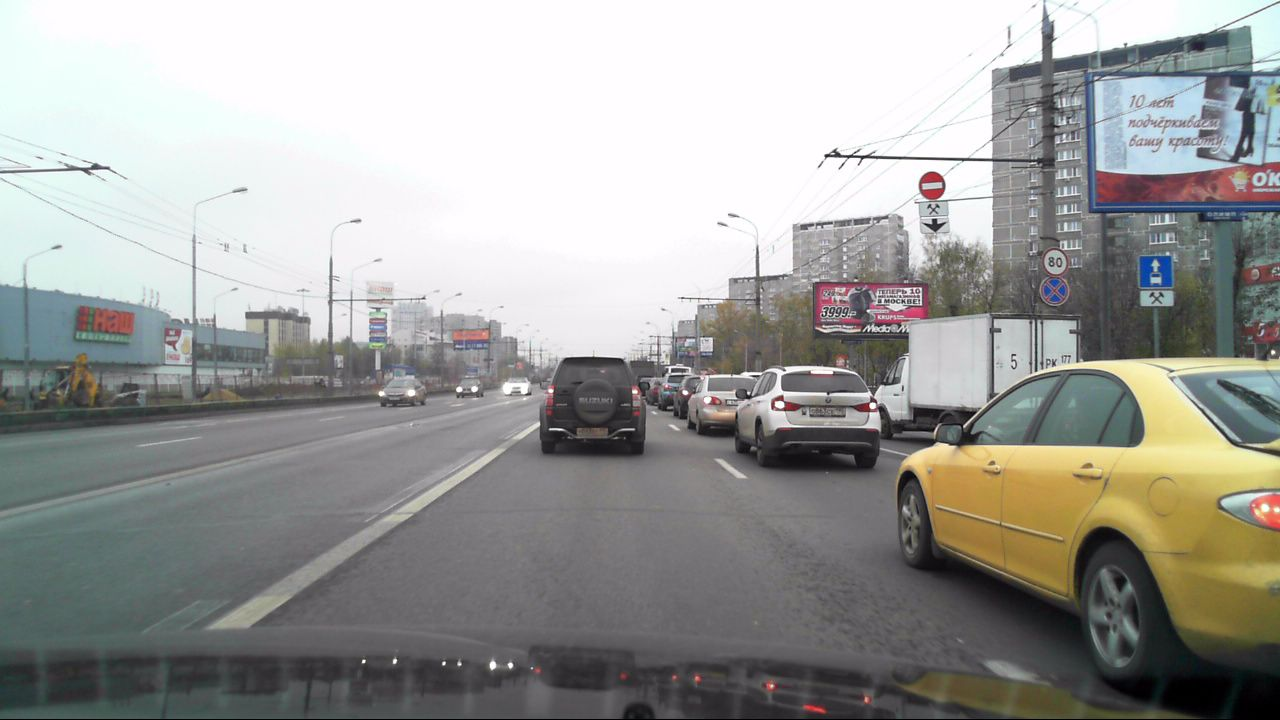No Parking: (1040, 277, 1070, 306)
